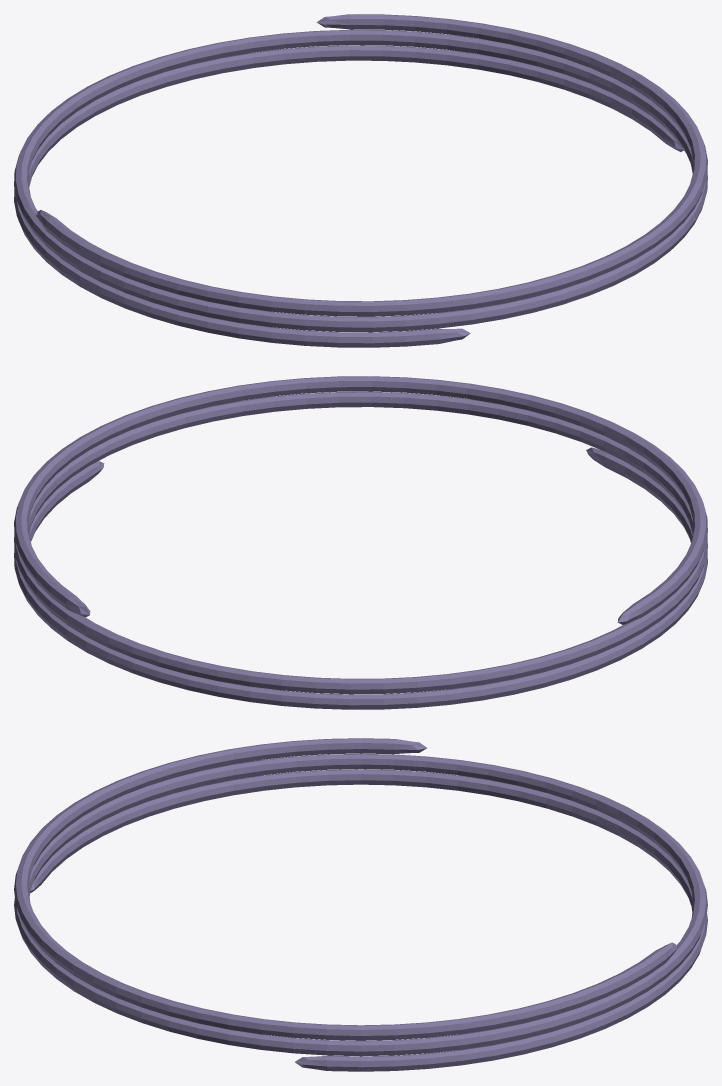
File: Key_Ring.obj
The picture shows the model from 3 angles, top to bottom: view 1: azimuth 30°, elevation 25°; view 2: azimuth 150°, elevation 25°; view 3: azimuth 270°, elevation 25°; orthographic projection.
Parts seen in each view (by area): view 1: KeyRing_Circle.005; view 2: KeyRing_Circle.005; view 3: KeyRing_Circle.005.
Boxes of the visible parts, box(x1,y1,x2,y2) form: KeyRing_Circle.005: box(14, 14, 707, 347); KeyRing_Circle.005: box(14, 376, 707, 709); KeyRing_Circle.005: box(14, 738, 707, 1071).
Size of the model in its own units: 2.8 by 0.2021 by 2.8.
